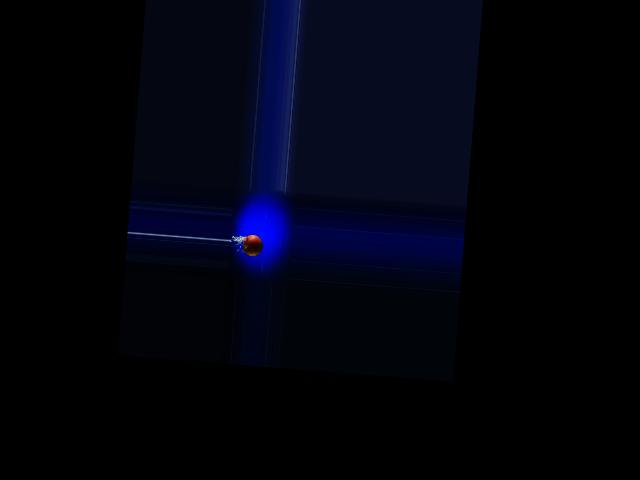tomato: (242, 234, 263, 257)
